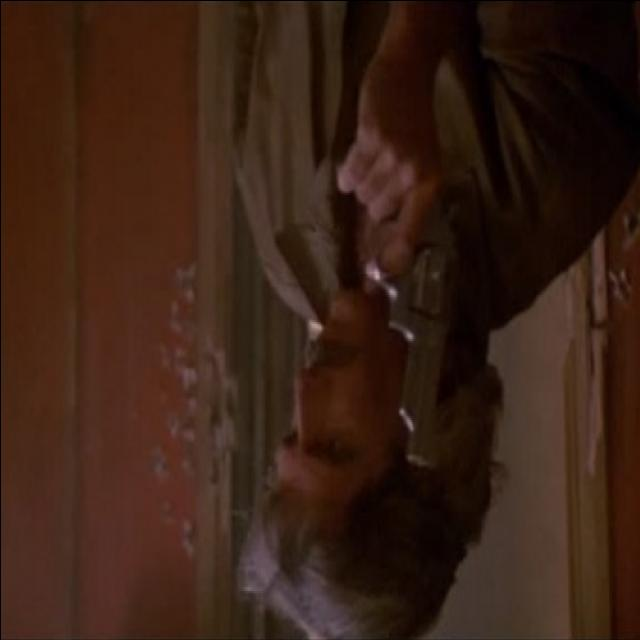weapons: (340, 118, 460, 498)
